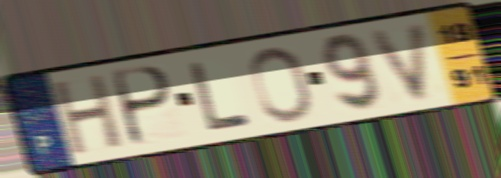9: (317, 32, 387, 114)
H: (52, 71, 127, 160)
L: (185, 58, 255, 134)
O: (246, 44, 316, 124)
P: (111, 64, 176, 150)
V: (366, 18, 432, 105)
